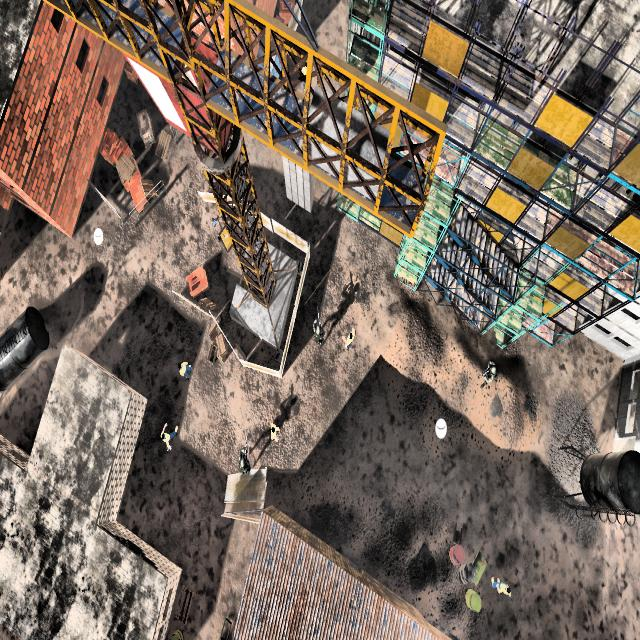bad: (234, 424, 253, 490), (308, 304, 328, 357), (474, 356, 499, 395)
good: (154, 416, 182, 458), (490, 564, 514, 604), (172, 350, 194, 388), (262, 416, 284, 453), (339, 318, 359, 358)
